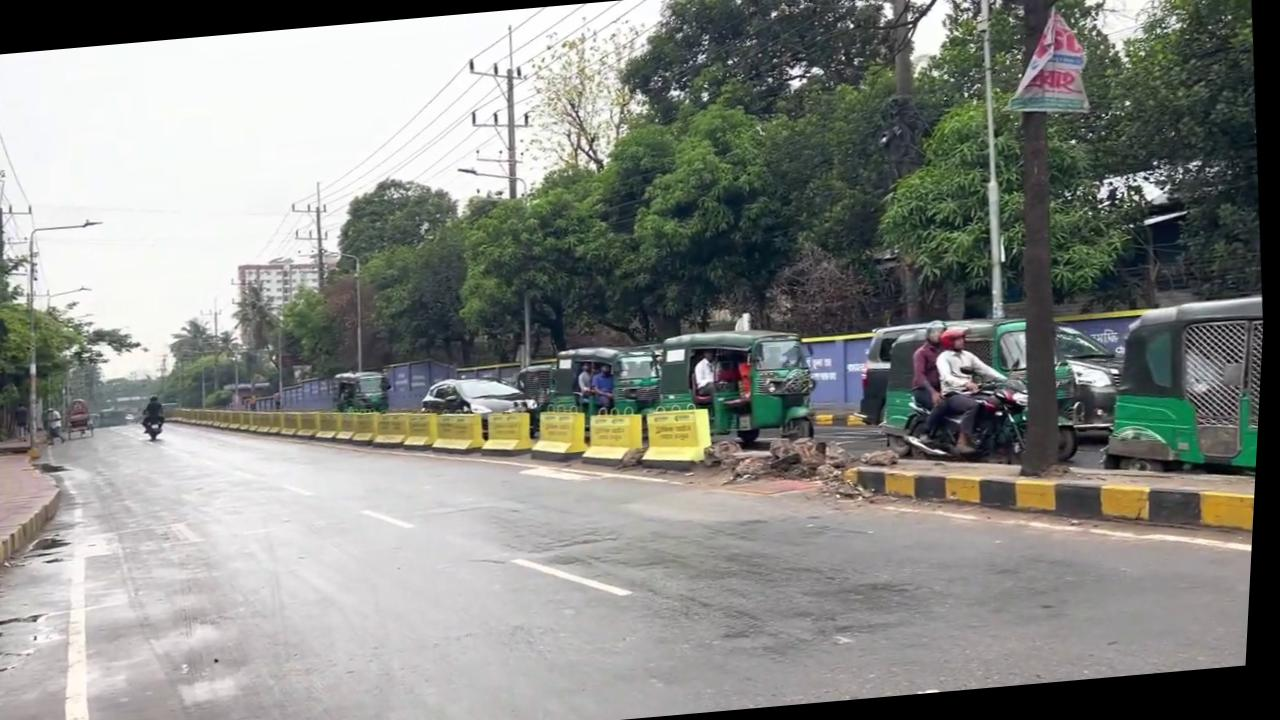Broken-road: (181, 347, 741, 514)
Car: (843, 426, 1263, 571)
Curb: (143, 409, 171, 441)
Fence: (694, 348, 725, 398), (592, 362, 621, 413), (143, 394, 169, 433), (16, 402, 35, 441)
Garbage: (991, 108, 1081, 477), (962, 0, 1021, 319), (14, 237, 56, 452)
Rickshaw: (69, 397, 99, 439)
